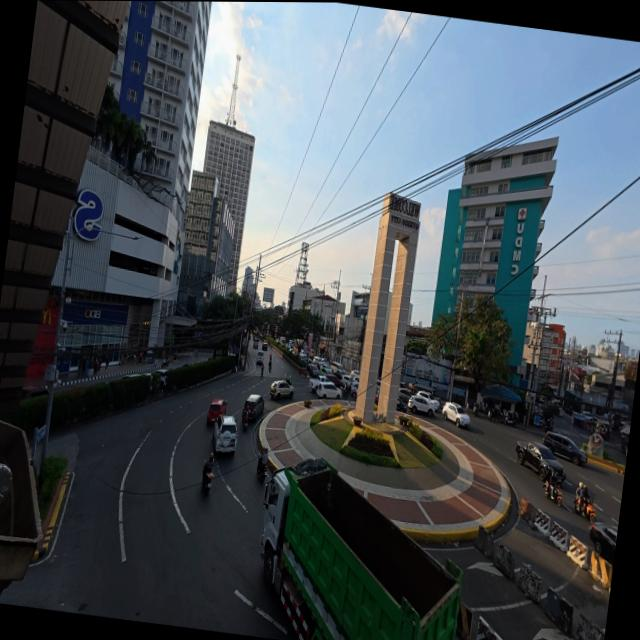car: (539, 431, 589, 467), (212, 420, 240, 453), (406, 388, 440, 414), (437, 398, 470, 424), (310, 376, 344, 401), (202, 397, 225, 427), (268, 376, 294, 401)
